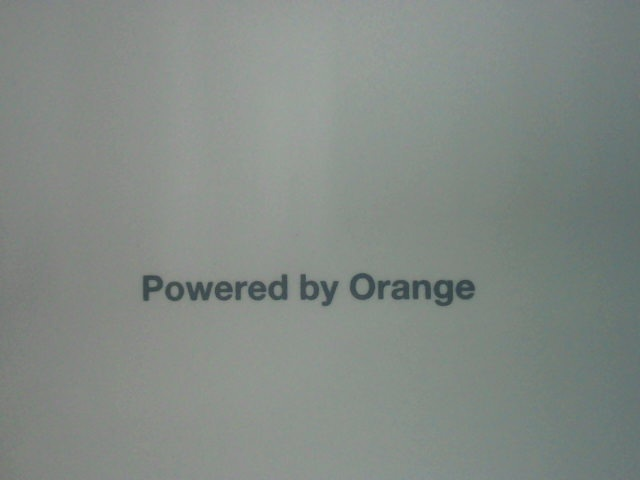AS_PowerByOrange: (139, 264, 479, 316)
